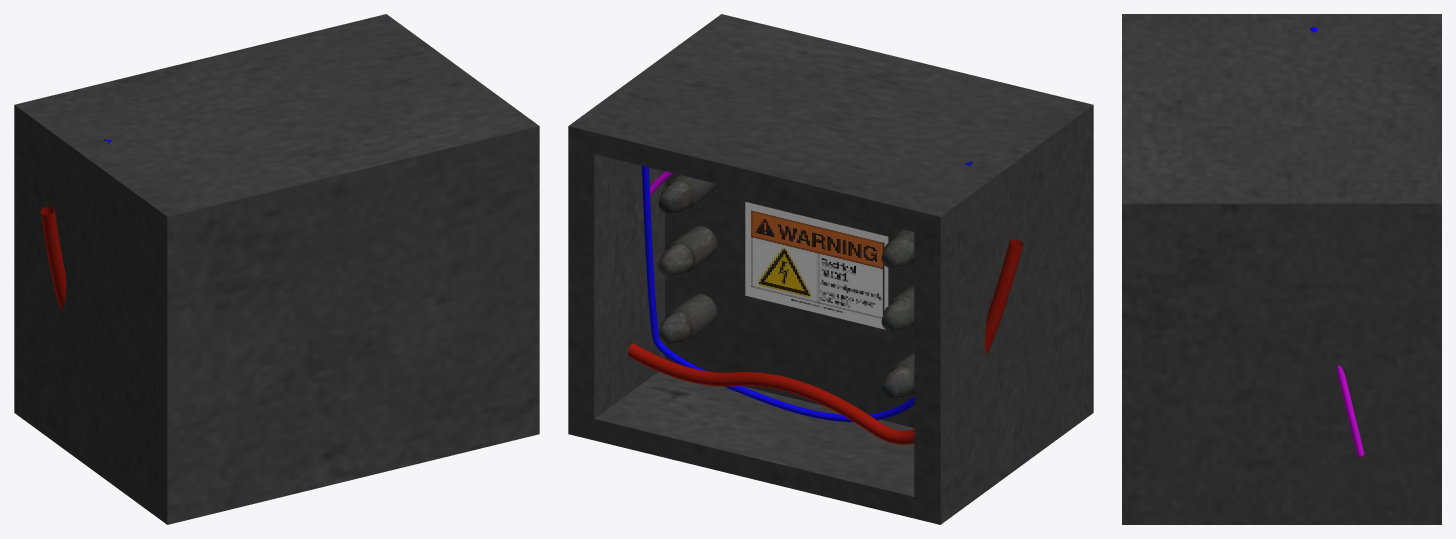
Rendered from Wirebox.fbx.
3 views of the same model, side by side, from view 1: azimuth 30°, elevation 25°; view 2: azimuth 150°, elevation 25°; view 3: azimuth 270°, elevation 25° (orthographic). The views are drawn at different scales.
Visible parts, largest first — view 1: Wiresbox; view 2: Wiresbox; view 3: Wiresbox.
Boxes of the visible parts, left/top/right/bottom form: Wiresbox: left=14, top=14, right=539, bottom=524; Wiresbox: left=568, top=14, right=1093, bottom=524; Wiresbox: left=1122, top=14, right=1441, bottom=524.
Bounding box in the file's own units: 67.05 × 47.84 × 42.78.
